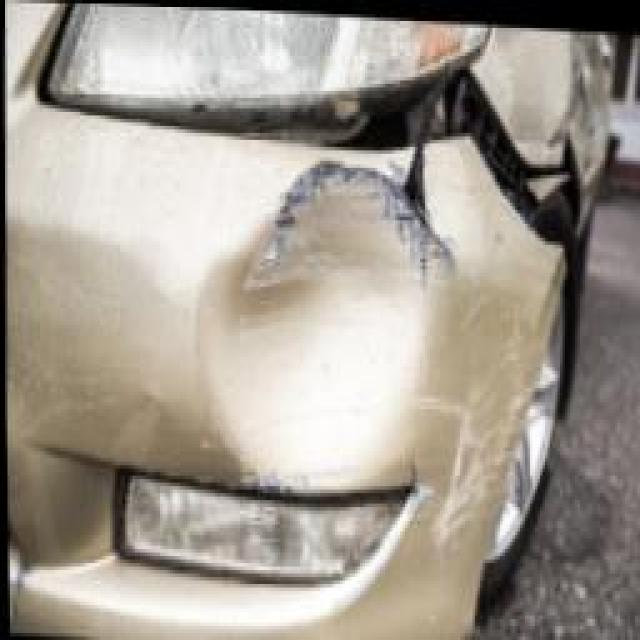Bumper: (172, 115, 538, 561)
Fender: (492, 28, 572, 153)
